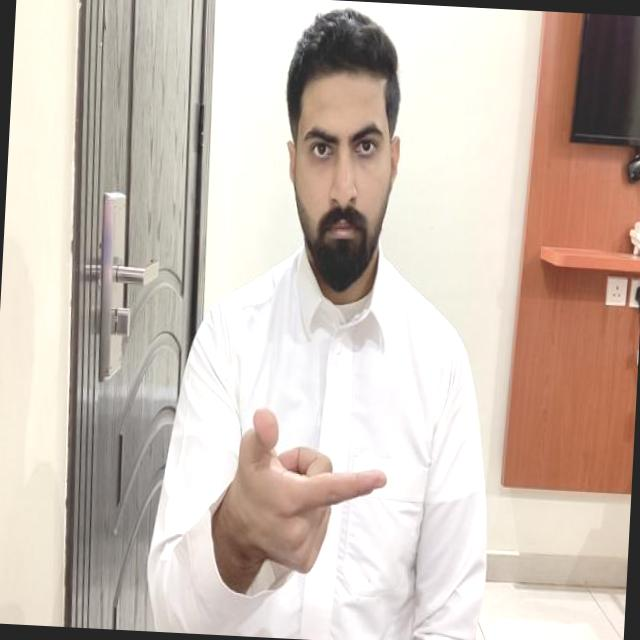dispensing: (214, 404, 390, 579)
